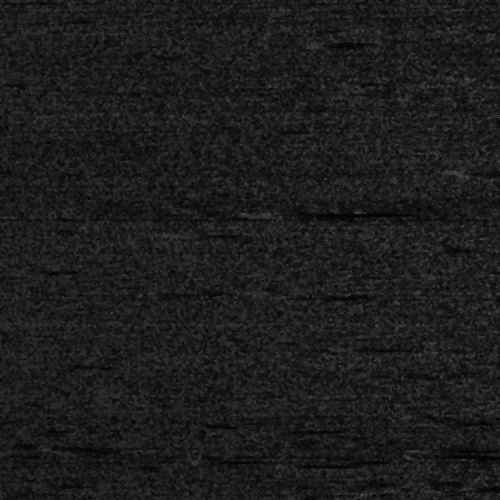object: (421, 167, 500, 174), (247, 209, 310, 216), (263, 460, 304, 465)
shadow: (278, 209, 383, 216), (284, 460, 348, 465), (462, 167, 500, 174)
